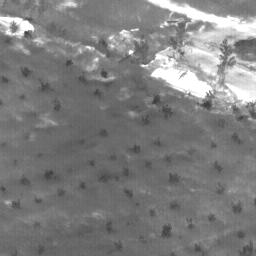aircraft: (130, 52, 132, 54)
